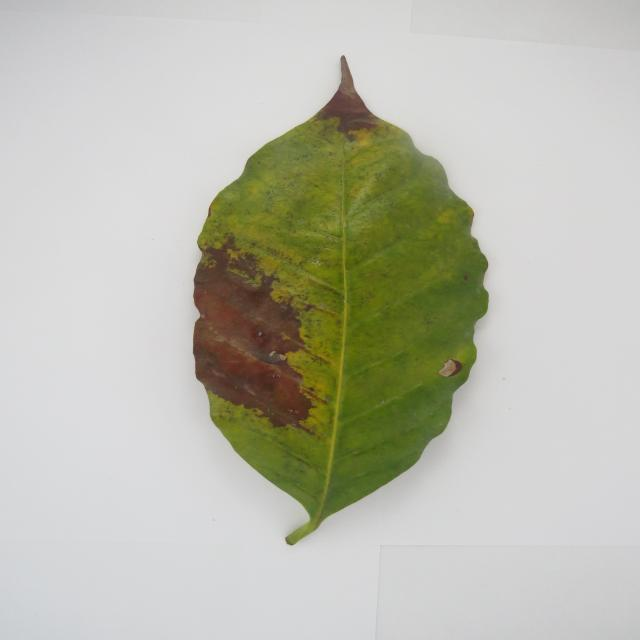DeficienciaNutricional-Potasio: (193, 59, 488, 544)
